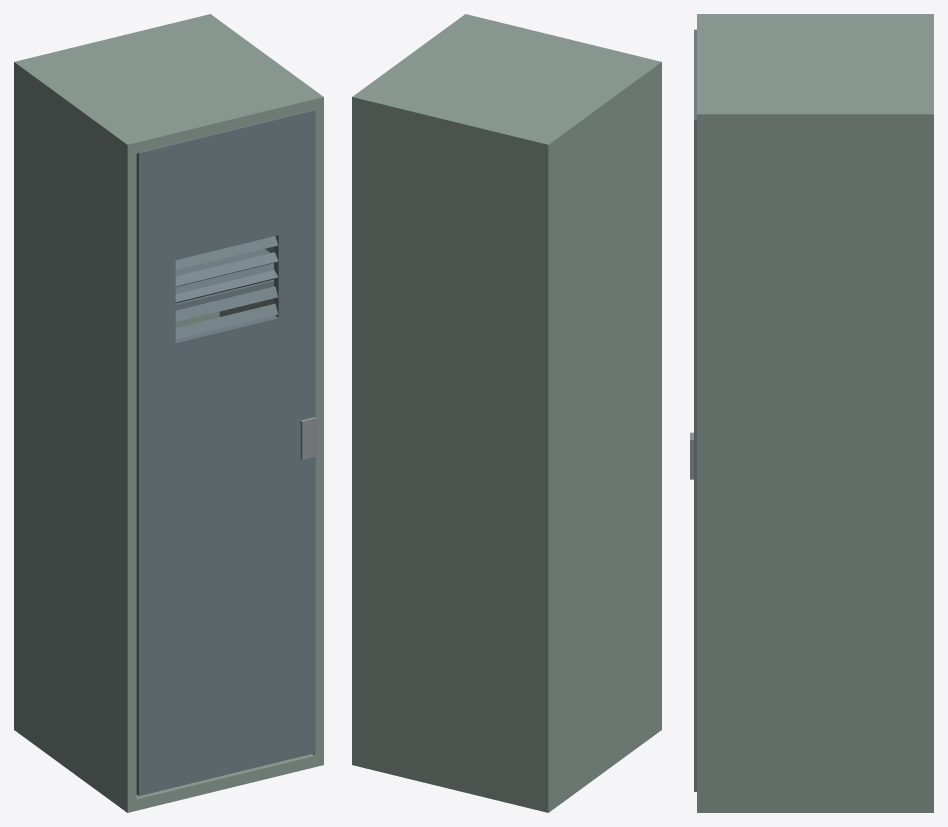
Rendered from Locker Closed.fbx.
3 renders of one model, left to right at view 1: azimuth 30°, elevation 25°; view 2: azimuth 150°, elevation 25°; view 3: azimuth 270°, elevation 25°, orthographic. The views are drawn at different scales.
Parts seen in each view (by area): view 1: pCube114; view 2: pCube114; view 3: pCube114.
Part boxes in pixels (x1=…): pCube114: x1=14, y1=14, x2=323, y2=812; pCube114: x1=352, y1=14, x2=661, y2=812; pCube114: x1=690, y1=14, x2=933, y2=812.
Size of the model in its own units: 0.5098 by 1.66 by 0.5245.
